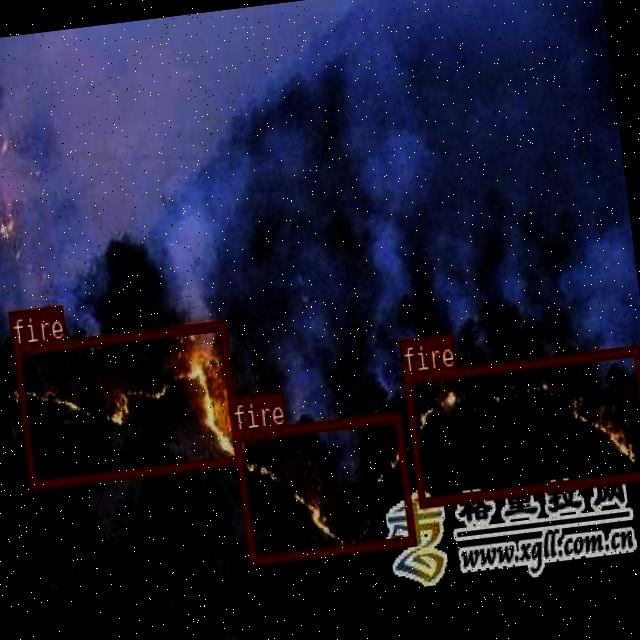fire: (12, 318, 241, 488), (402, 343, 640, 504), (233, 410, 414, 564)
